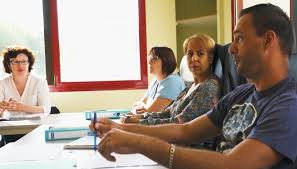without_mask: (226, 18, 271, 75), (184, 41, 208, 75), (8, 55, 31, 80), (147, 54, 163, 78)
